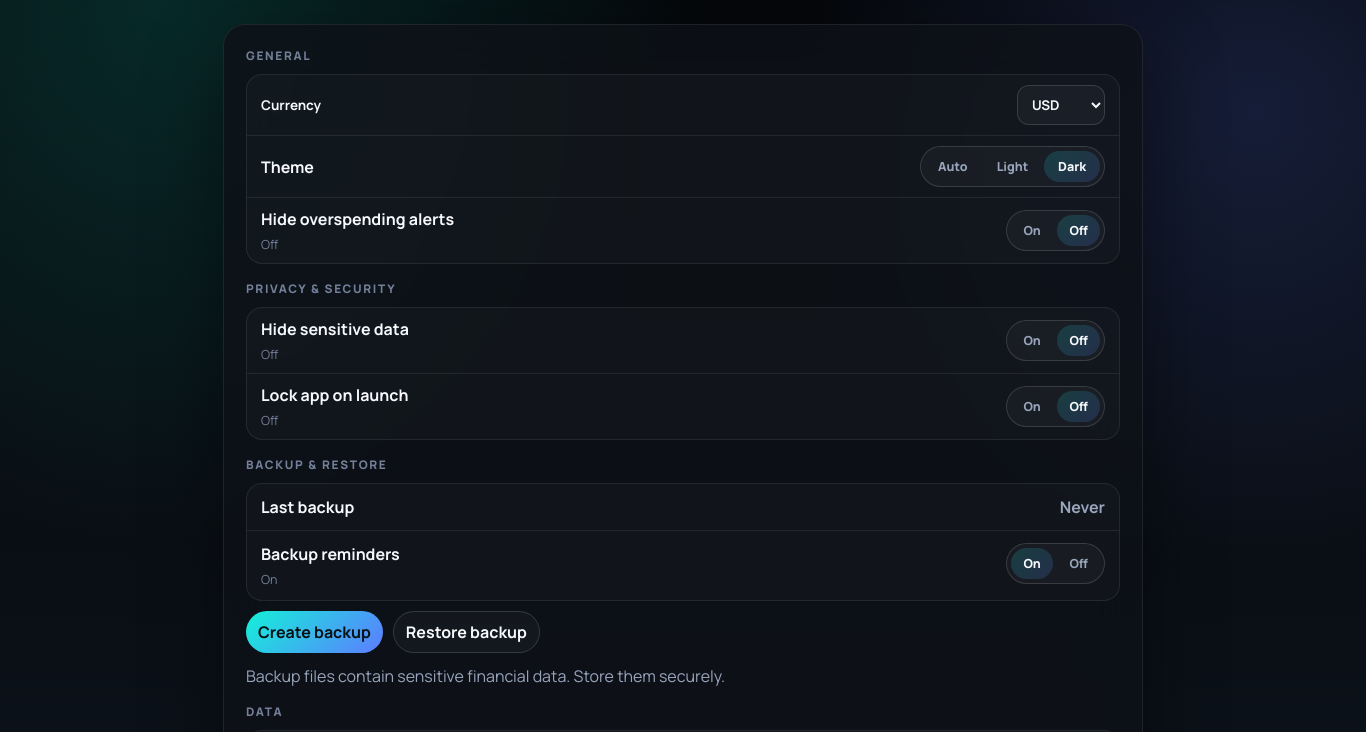
Test: SettingsScreen direct flows › keeps app lock disabled when PIN setup is cancelled
The width and height of the screenshot is (1366, 732).
Step 1. Click the button "On" in the row of "Lock app on launch" → (1032, 406), box [1011,391,1053,422]
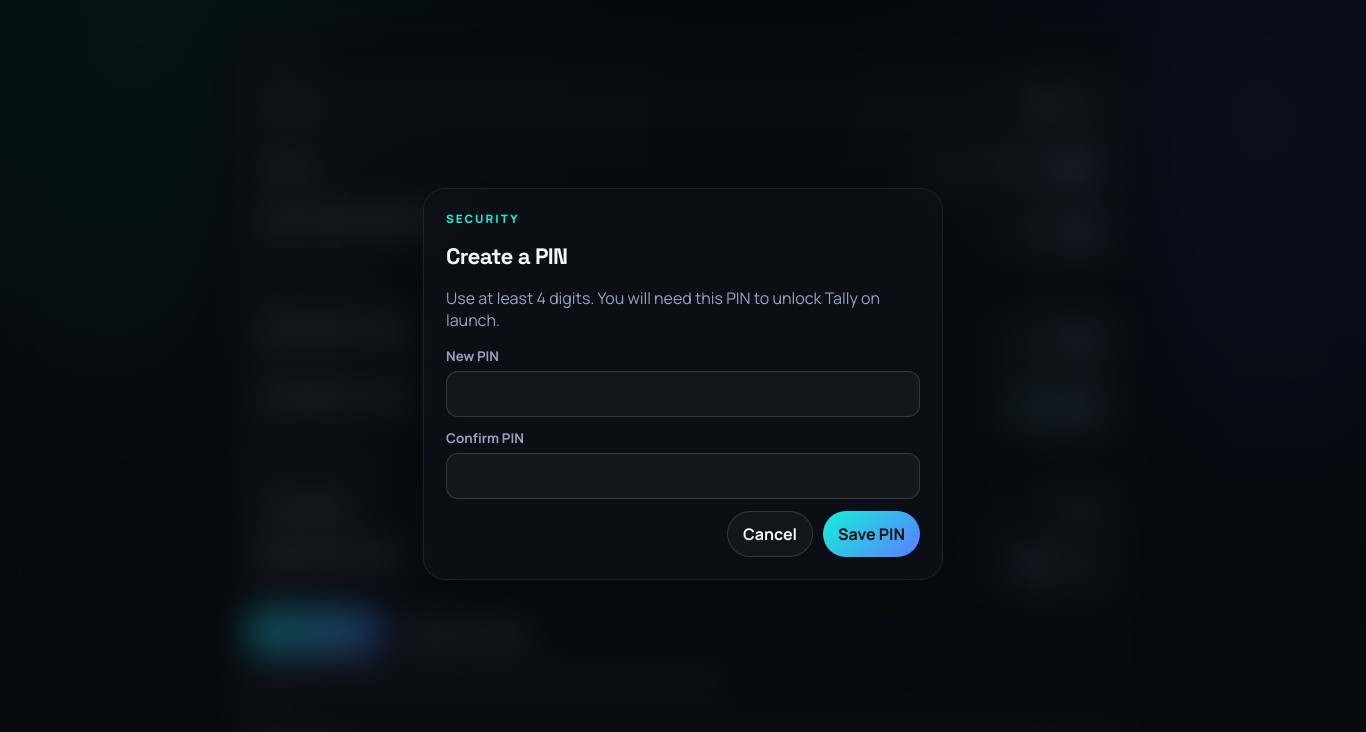
Step 2. Click the button "Cancel" → (770, 534), box [727,511,813,557]
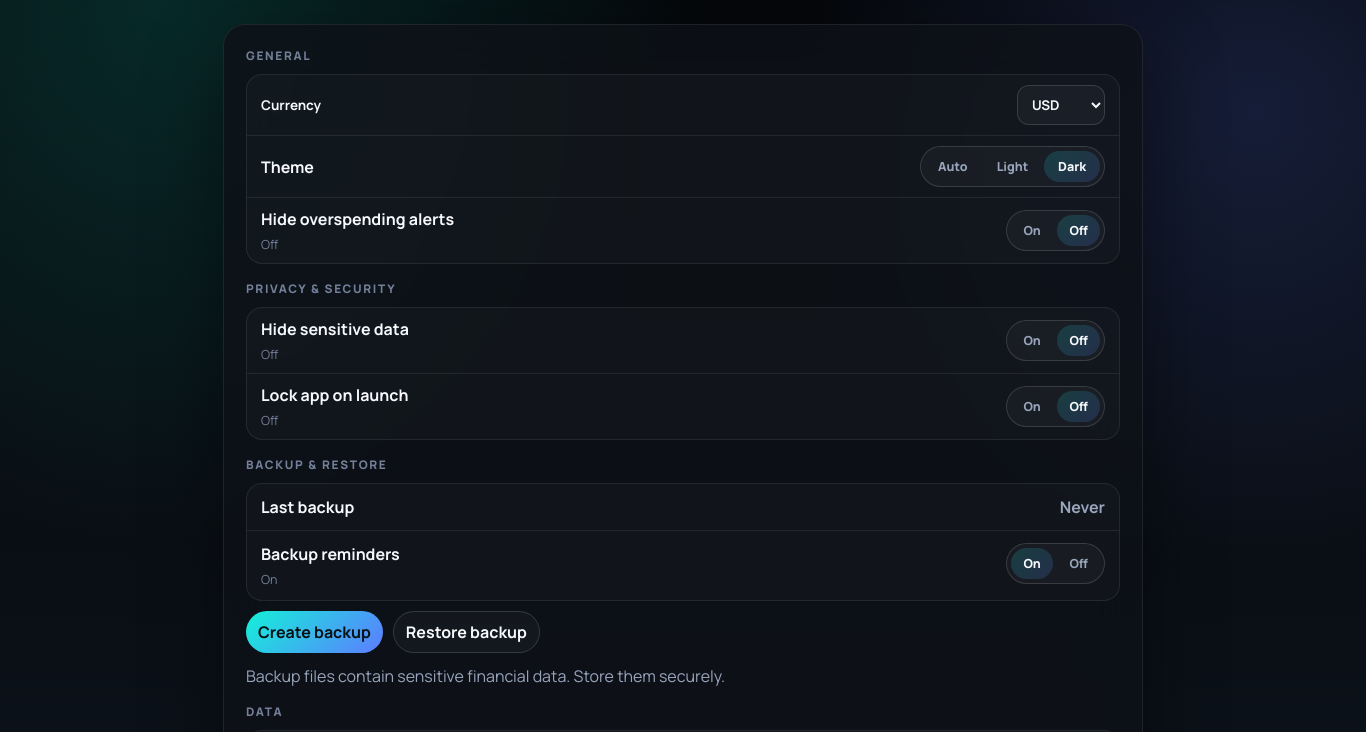
Check: the heading "Create a PIN" is gone
